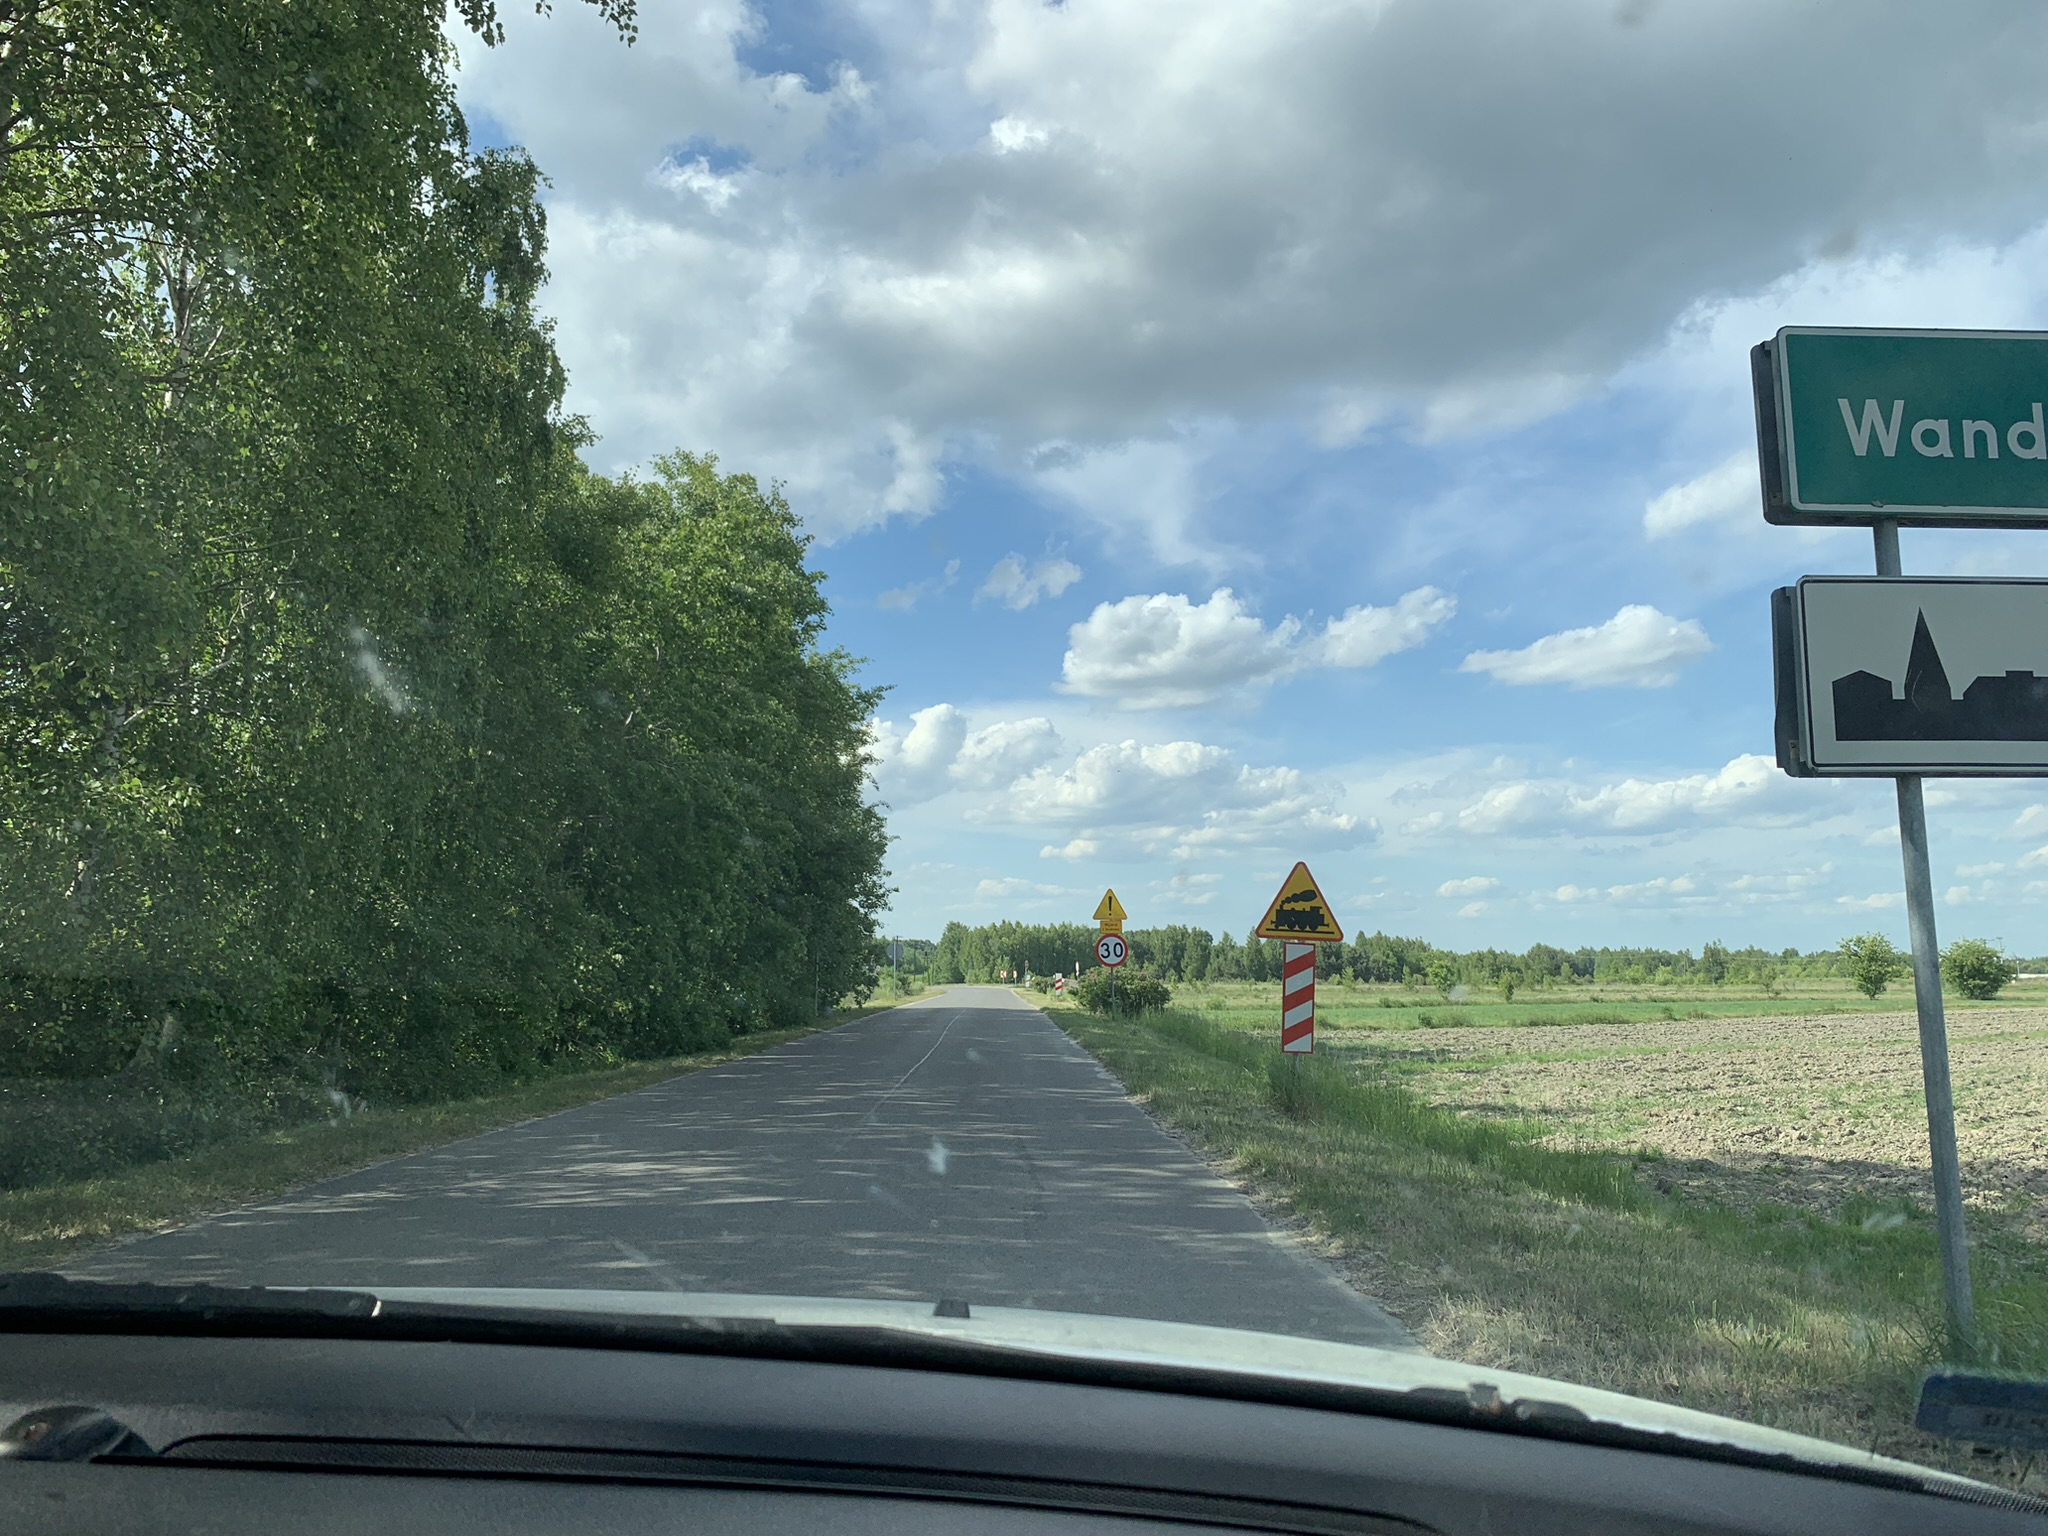a10: (1264, 887, 1335, 936)
